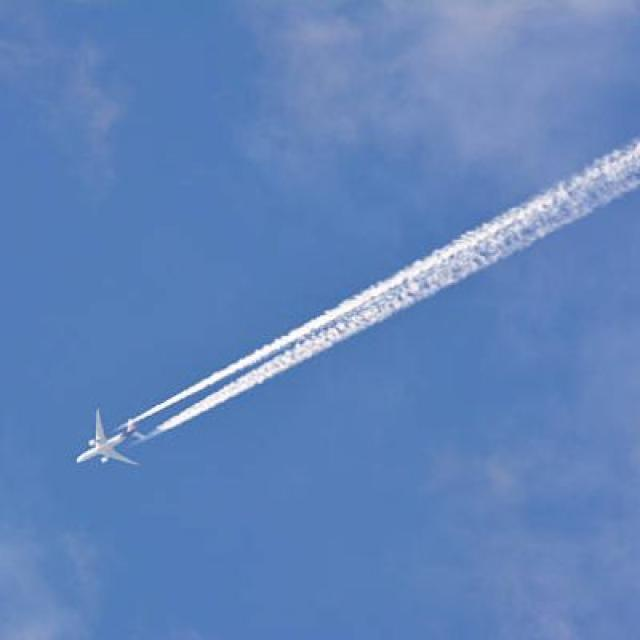Ct: (1, 86, 640, 400)
